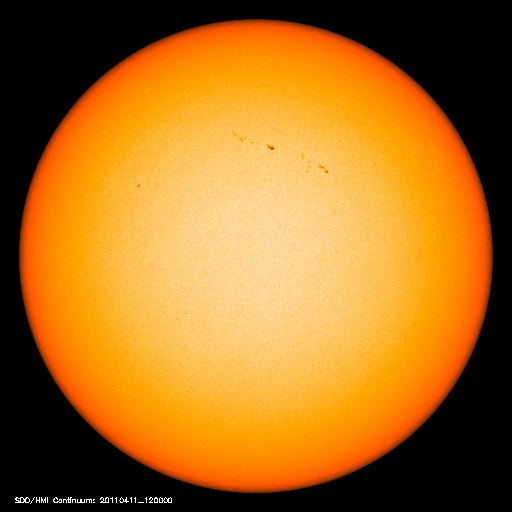sunspot: (222, 121, 341, 182), (126, 173, 156, 195)
